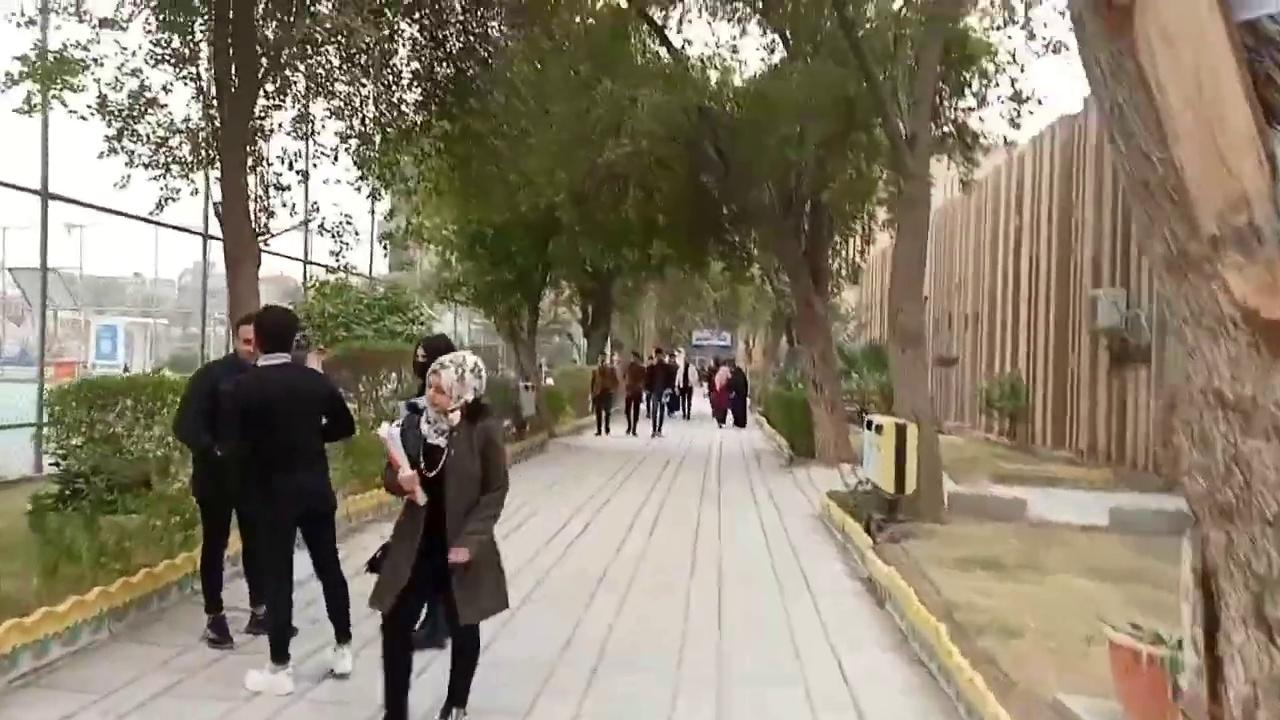person: (217, 303, 356, 696), (374, 350, 510, 719), (171, 311, 270, 649), (379, 332, 458, 651)
tree: (0, 0, 984, 507), (618, 0, 1007, 475), (7, 0, 510, 359), (357, 1, 731, 436), (1066, 0, 1280, 717), (810, 0, 1034, 523), (710, 28, 895, 466), (142, 0, 322, 353), (0, 0, 101, 473), (291, 270, 441, 505)
